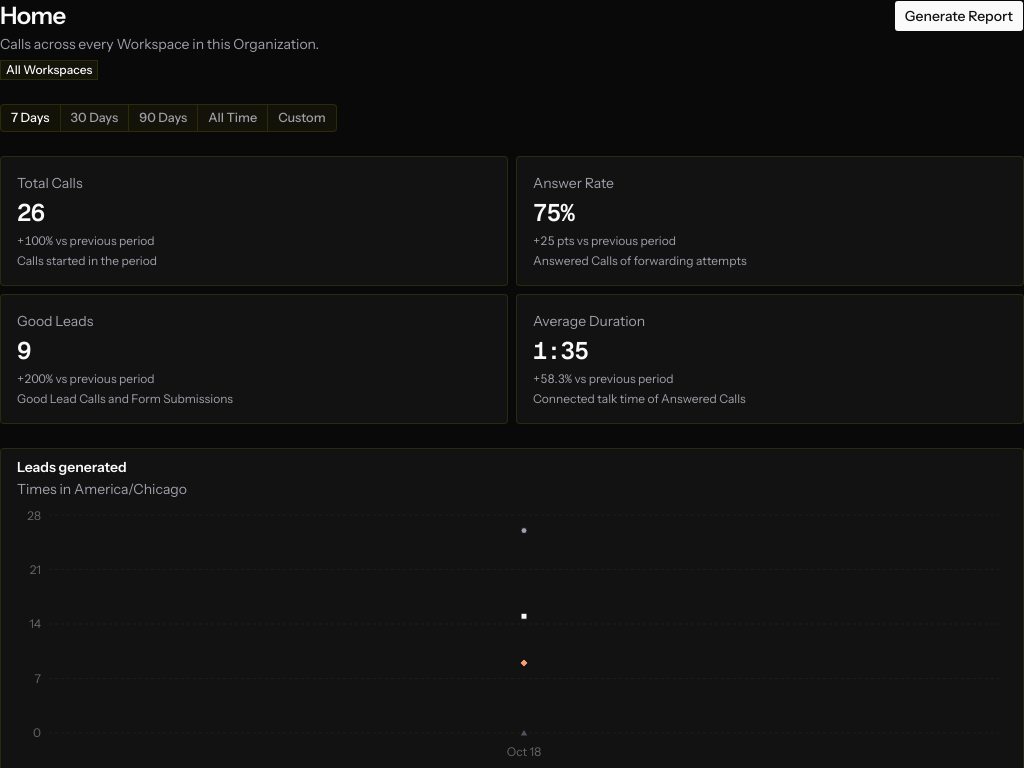
Test: HomeDashboard › opens Generate Report over every accessible Workspace
Click the button "Generate Report".
click(959, 16)  # box [894,0,1023,32]
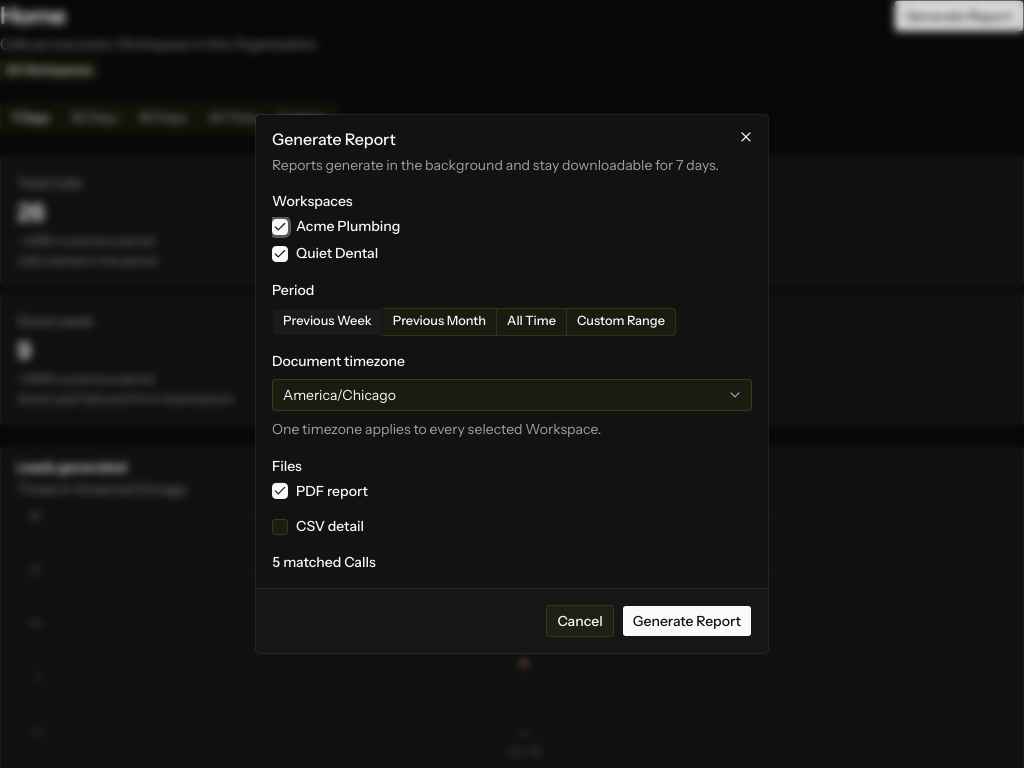
Now the dialog "Generate Report" is shown, box [256,115,768,653]
Now the checkbox named "Acme Plumbing" next to "Acme Plumbing" is checked, box [272,218,288,234]
Now the checkbox named "Quiet Dental" next to "Quiet Dental" is checked, box [272,246,288,262]
